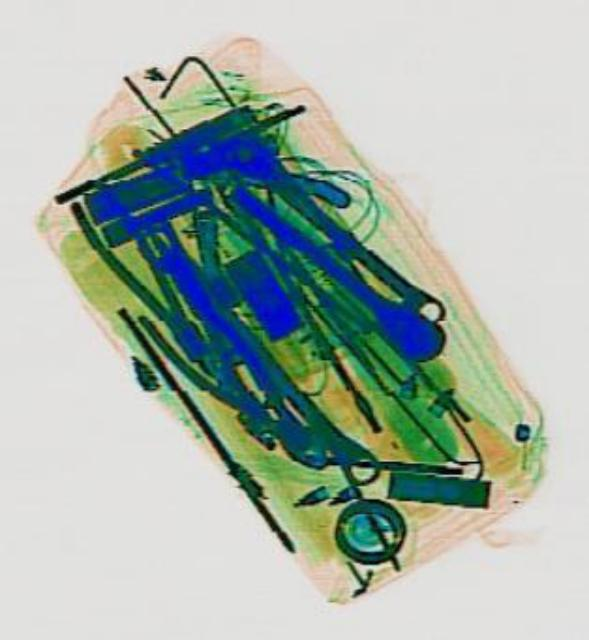Pliers: (53, 166, 233, 384), (132, 276, 299, 464)
Wrench: (130, 219, 383, 489), (223, 132, 448, 330)
